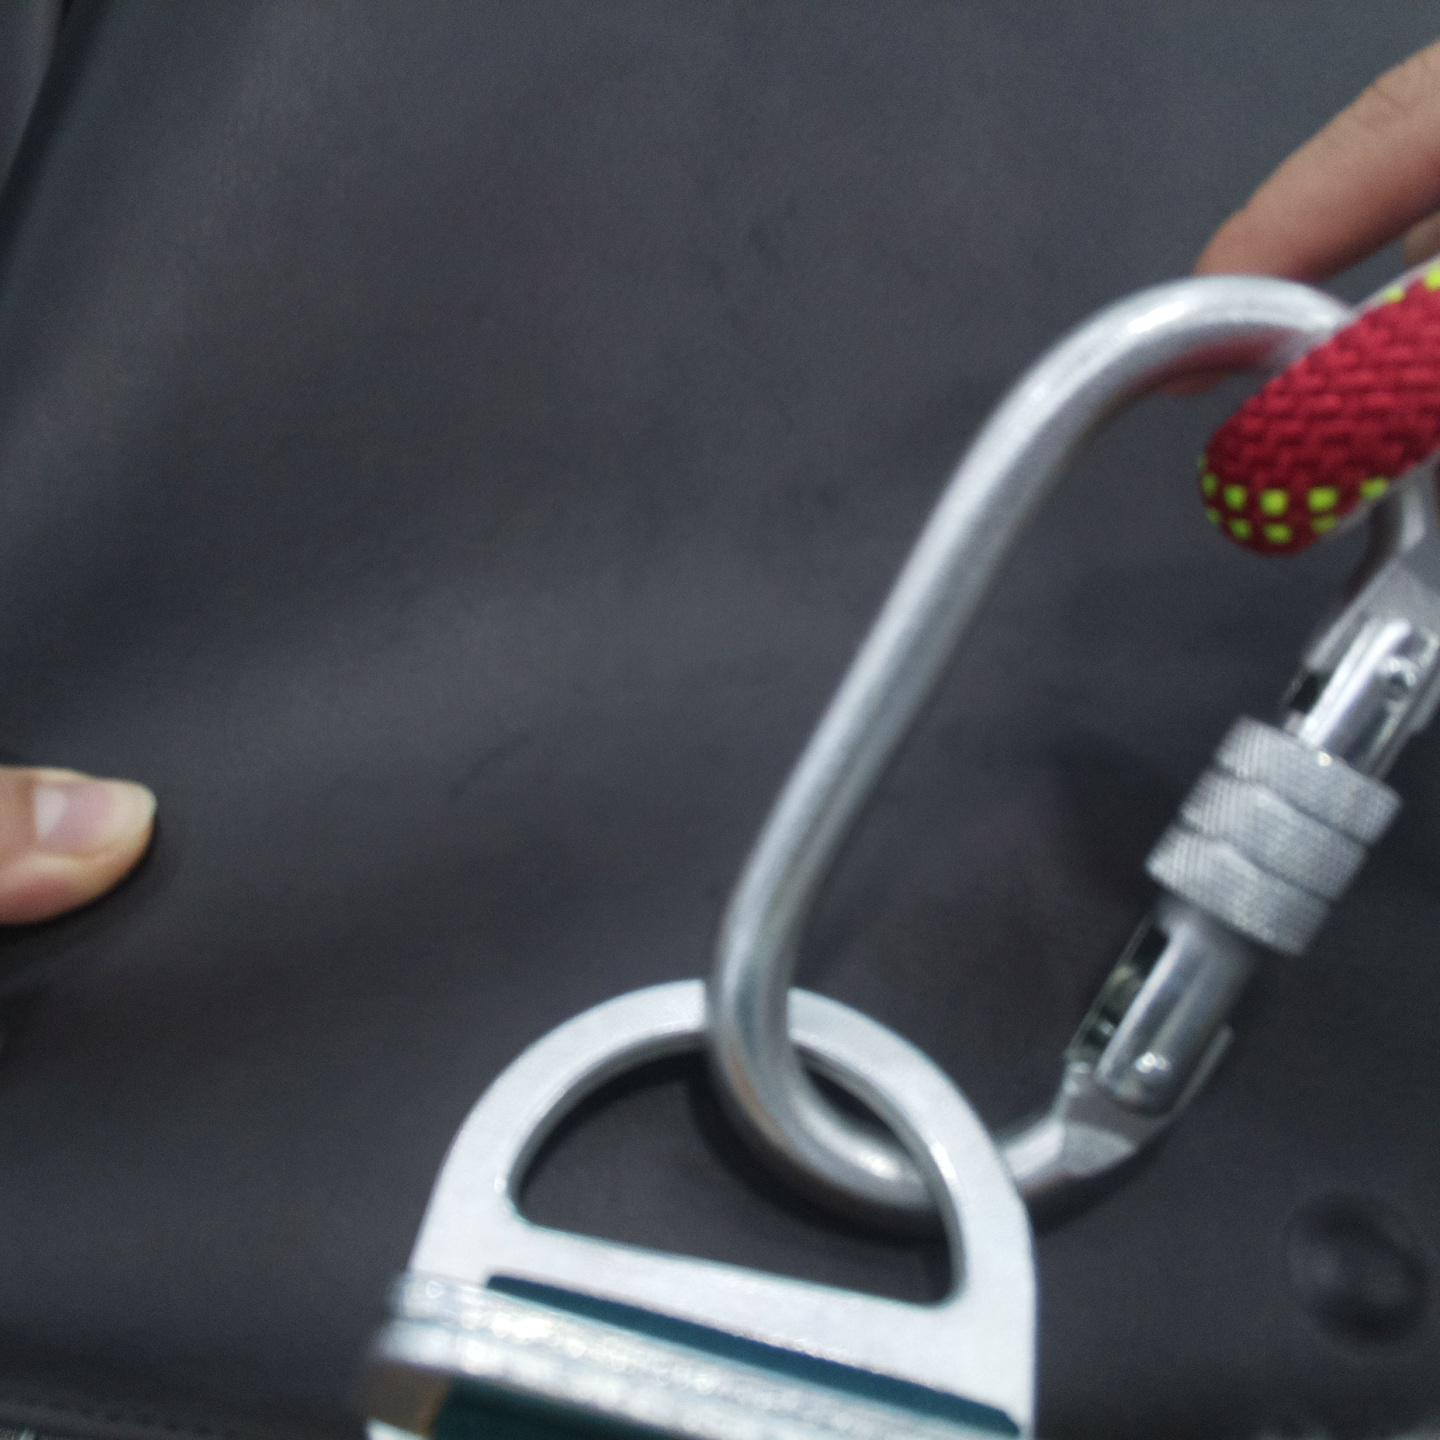SUCCESS: (375, 626, 1228, 1371)
